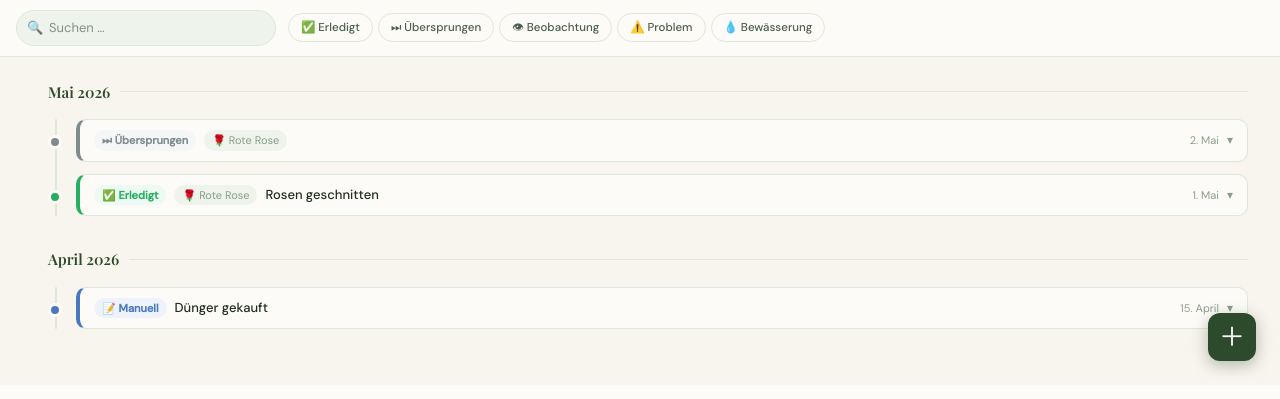
Test case: JournalView — filter chips (AC #3) › activating 'Erledigt' chip filters to done entries only
The image size is (1280, 399).
Step 1. Click the button with test id "filter-chip-done" → coordinates (330, 28), box [288, 13, 373, 42]
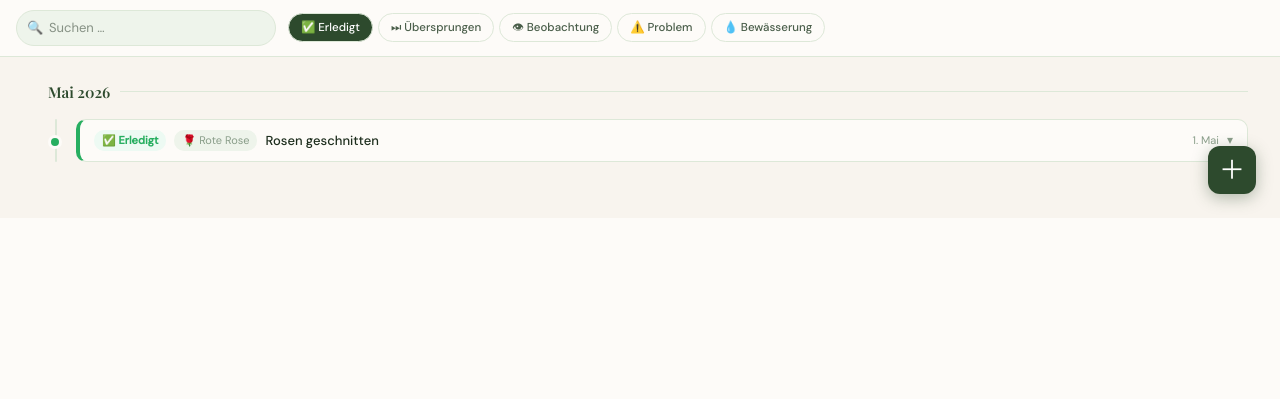
Check: the number of elements with test id "journal-entry" is 1, box [76, 119, 1248, 162]
